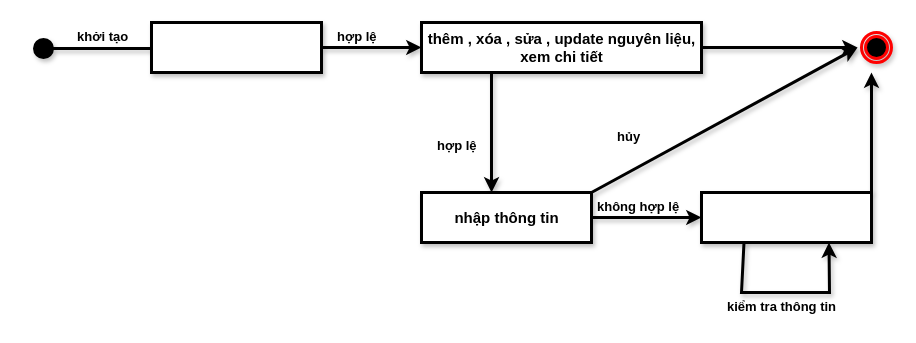
Image size: 916x343. Some labels were removed from this diagram. The shapes that lost their labels are listed below. From the top down, each one's centre as x and y in pixels, then its label:
At (x=237, y=48): "xem các công thức".
At (x=787, y=218): "nhập lại thông tin".
